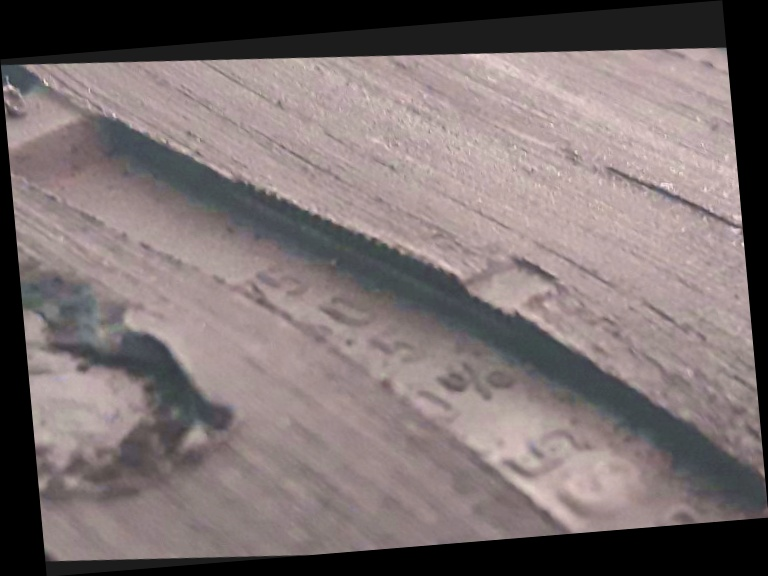temoin:0: (415, 222, 581, 353)
